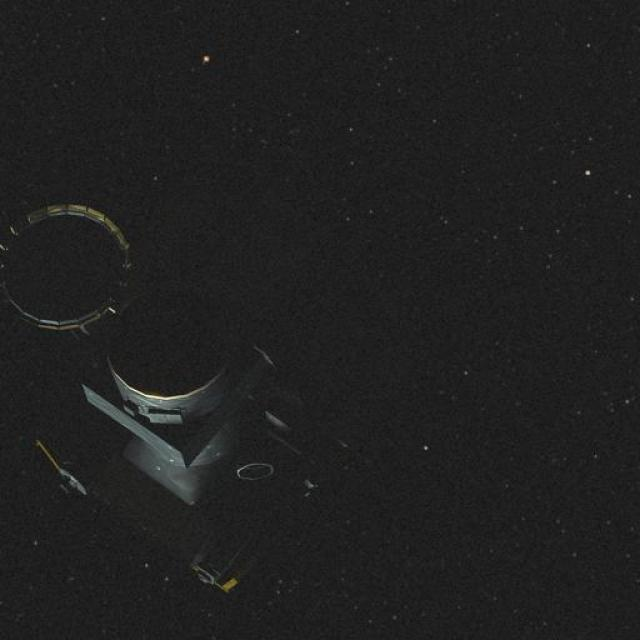cheops: (0, 190, 348, 594)
